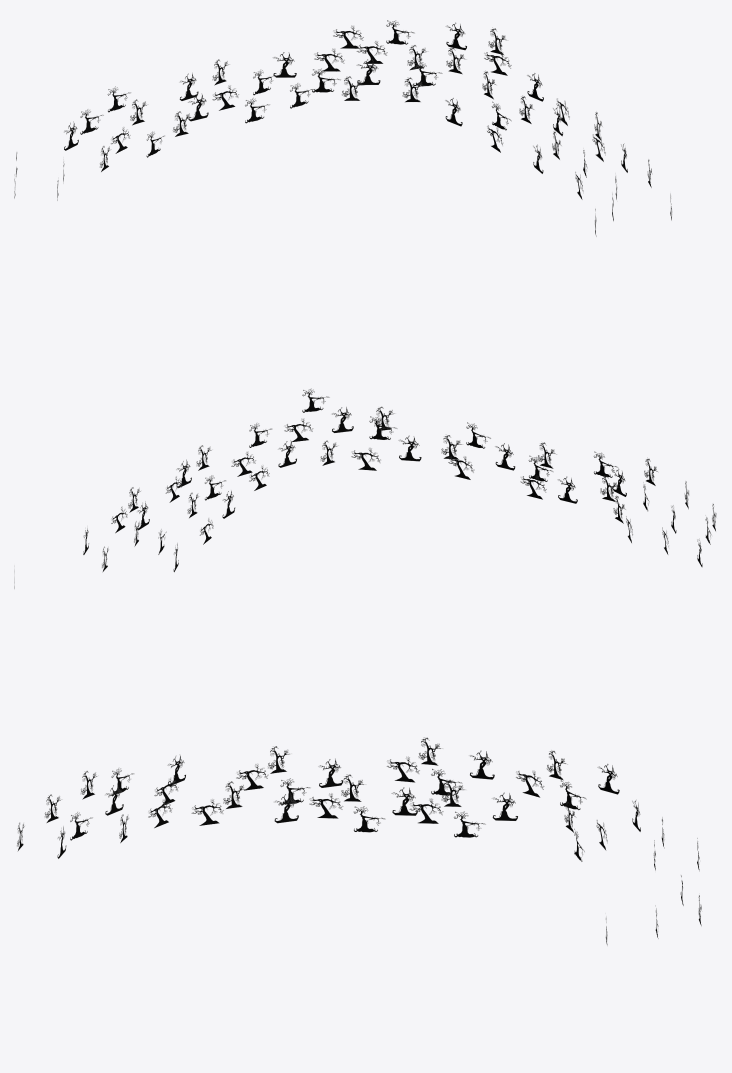
Rendered from ArbolesBack.glb.
3 renders of one model, top to bottom at view 1: azimuth 30°, elevation 25°; view 2: azimuth 150°, elevation 25°; view 3: azimuth 270°, elevation 25°, orthographic. The views are drawn at different scales.
Visible parts, largest first — view 1: mdl_ArbolesBack:PIV; view 2: mdl_ArbolesBack:PIV; view 3: mdl_ArbolesBack:PIV.
Boxes of the visible parts, box(x1,y1,x2,y2) form: mdl_ArbolesBack:PIV: box(14, 20, 672, 236); mdl_ArbolesBack:PIV: box(14, 388, 716, 588); mdl_ArbolesBack:PIV: box(17, 737, 701, 945).
Size of the model in its own units: 9225 by 535 by 9434.
Materials: 1 (1 with a texture image).
